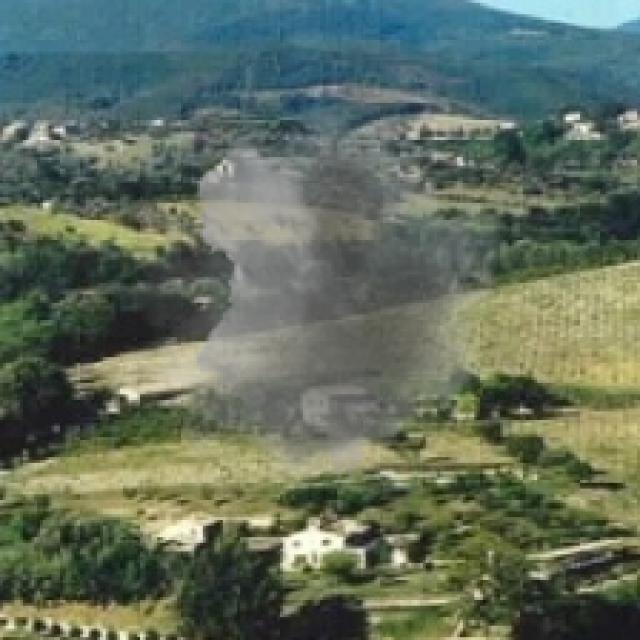smoke: (114, 112, 520, 497)
